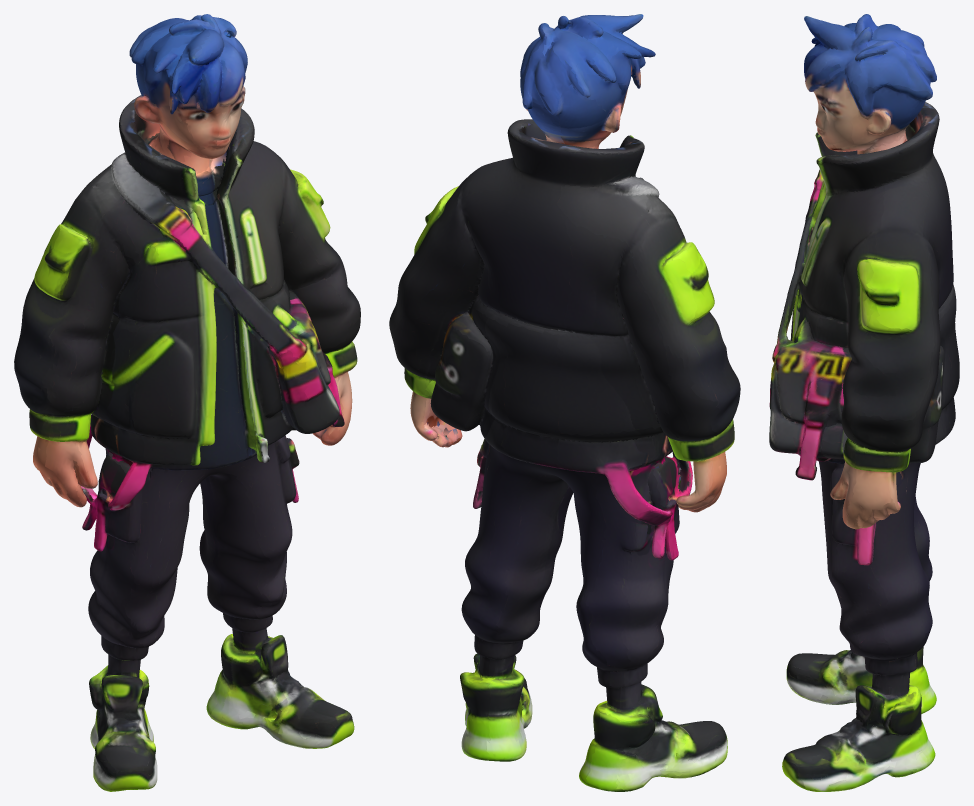
The model's file is u_chr_runner.glb.
3 views of the same model, side by side, from view 1: azimuth 30°, elevation 25°; view 2: azimuth 150°, elevation 25°; view 3: azimuth 270°, elevation 25° (orthographic). The views are drawn at different scales.
Parts seen in each view (by area): view 1: geometry_0; view 2: geometry_0; view 3: geometry_0.
Boxes of the visible parts, x1=… form: geometry_0: x1=14, y1=14, x2=360, y2=791; geometry_0: x1=389, y1=14, x2=740, y2=791; geometry_0: x1=769, y1=14, x2=959, y2=791.
Size of the model in its own units: 0.0853 by 0.18 by 0.0436.
Materials: 1 (1 with a texture image).
